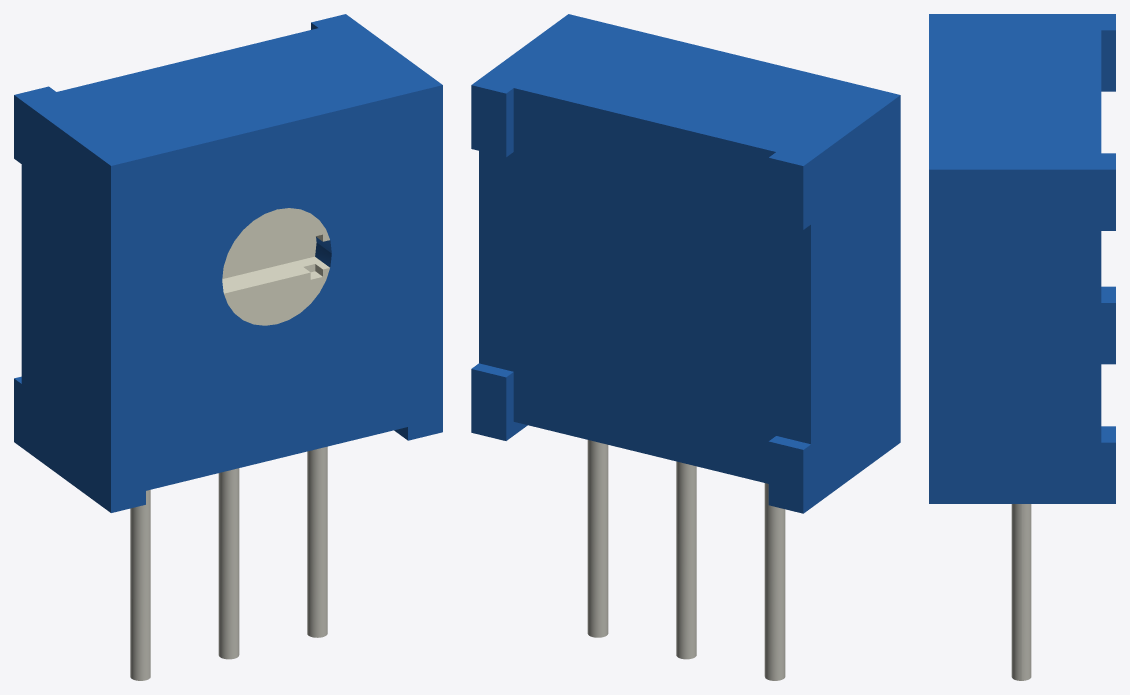
Rendered from kc-potentiometer_bourns_3386w_horizontal.glb.
The picture shows the model from 3 angles, left to right: view 1: azimuth 30°, elevation 25°; view 2: azimuth 150°, elevation 25°; view 3: azimuth 270°, elevation 25°; orthographic projection. The views are drawn at different scales.
Visible parts, largest first — view 1: 0_0.16666666666666666_0.5_0, 0.6666666666666666_0.6666666666666666_0.5833333333333334_0.8, 0.75_0.75_0.6666666666666666_0; view 2: 0_0.16666666666666666_0.5_0, 0.6666666666666666_0.6666666666666666_0.5833333333333334_0.8; view 3: 0_0.16666666666666666_0.5_0, 0.6666666666666666_0.6666666666666666_0.5833333333333334_0.8.
Part boxes in pixels (x1=…): 0_0.16666666666666666_0.5_0: x1=14, y1=14, x2=442, y2=512; 0.6666666666666666_0.6666666666666666_0.5833333333333334_0.8: x1=130, y1=446, x2=327, y2=680; 0.75_0.75_0.6666666666666666_0: x1=222, y1=208, x2=329, y2=325; 0_0.16666666666666666_0.5_0: x1=471, y1=14, x2=900, y2=513; 0.6666666666666666_0.6666666666666666_0.5833333333333334_0.8: x1=587, y1=440, x2=785, y2=680; 0_0.16666666666666666_0.5_0: x1=929, y1=14, x2=1115, y2=503; 0.6666666666666666_0.6666666666666666_0.5833333333333334_0.8: x1=1011, y1=504, x2=1031, y2=680.
Size of the model in its own units: 0.953 by 1.55 by 0.483.
